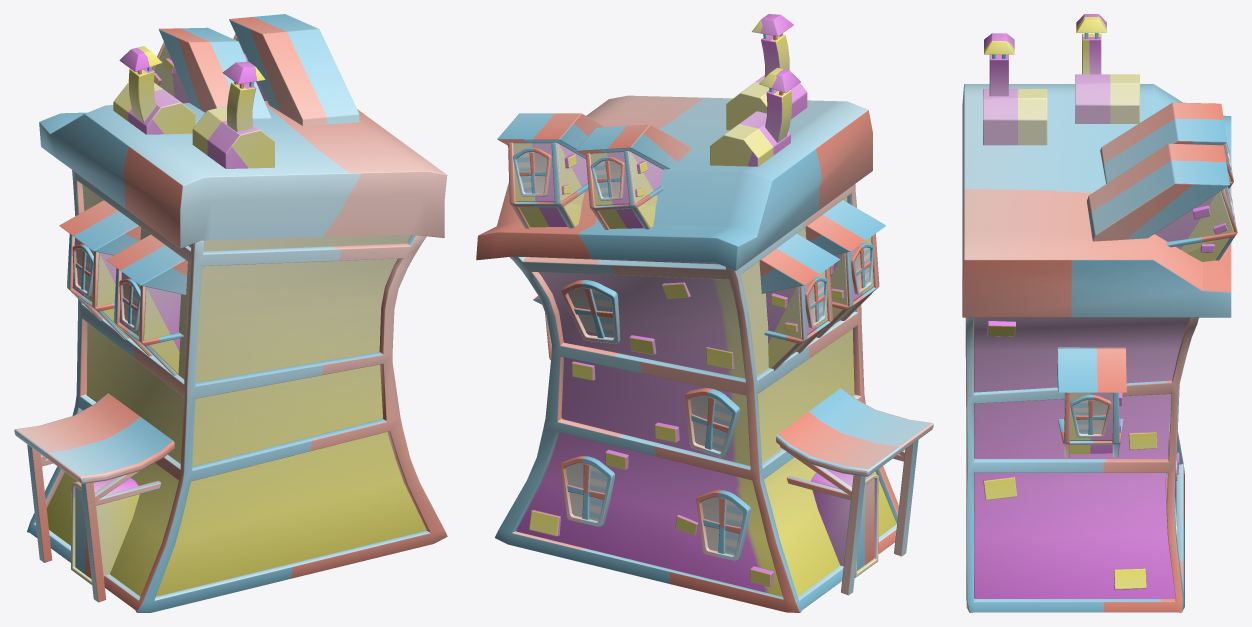
File: HouseE_v1.fbx
3 views of the same model, side by side, from view 1: azimuth 30°, elevation 25°; view 2: azimuth 150°, elevation 25°; view 3: azimuth 270°, elevation 25° (orthographic). The views are drawn at different scales.
Visible parts, largest first — view 1: HouseE_v1; view 2: HouseE_v1; view 3: HouseE_v1.
Boxes of the visible parts, bbox=[...] form: HouseE_v1: bbox=[14, 14, 447, 612]; HouseE_v1: bbox=[476, 14, 933, 612]; HouseE_v1: bbox=[962, 14, 1237, 612].
Size of the model in its own units: 948 by 1311 by 665.
